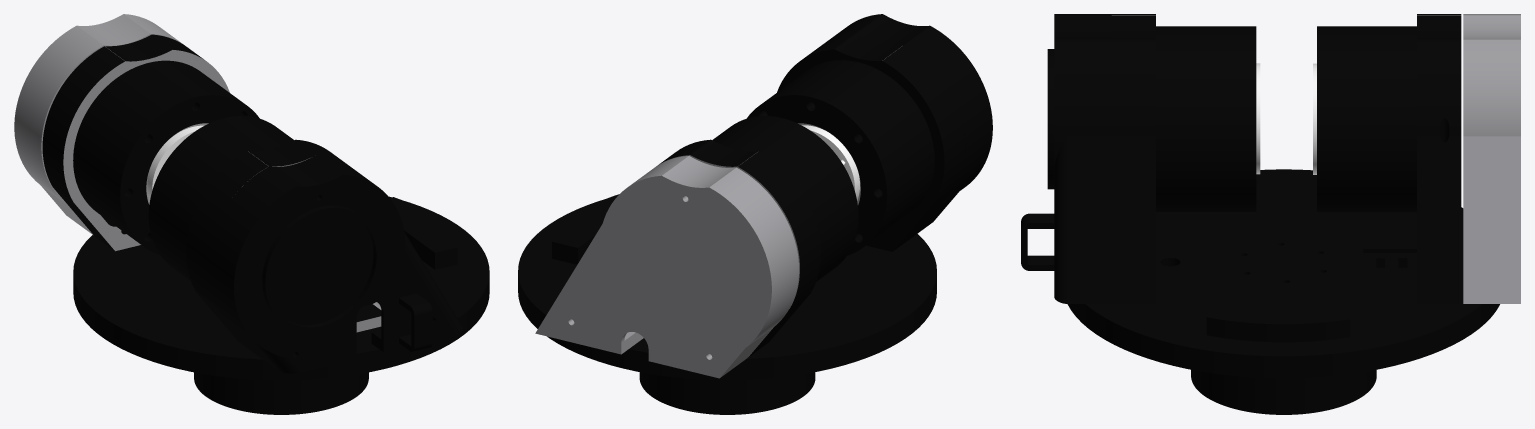
Rendered from robotic_arm_Shoulder.glb.
The picture shows the model from 3 angles, left to right: view 1: azimuth 30°, elevation 25°; view 2: azimuth 150°, elevation 25°; view 3: azimuth 270°, elevation 25°; orthographic projection. The views are drawn at different scales.
Size of the model in its own units: 0.1999 by 0.1557 by 0.226.
Materials: 6 (1 with a texture image).
